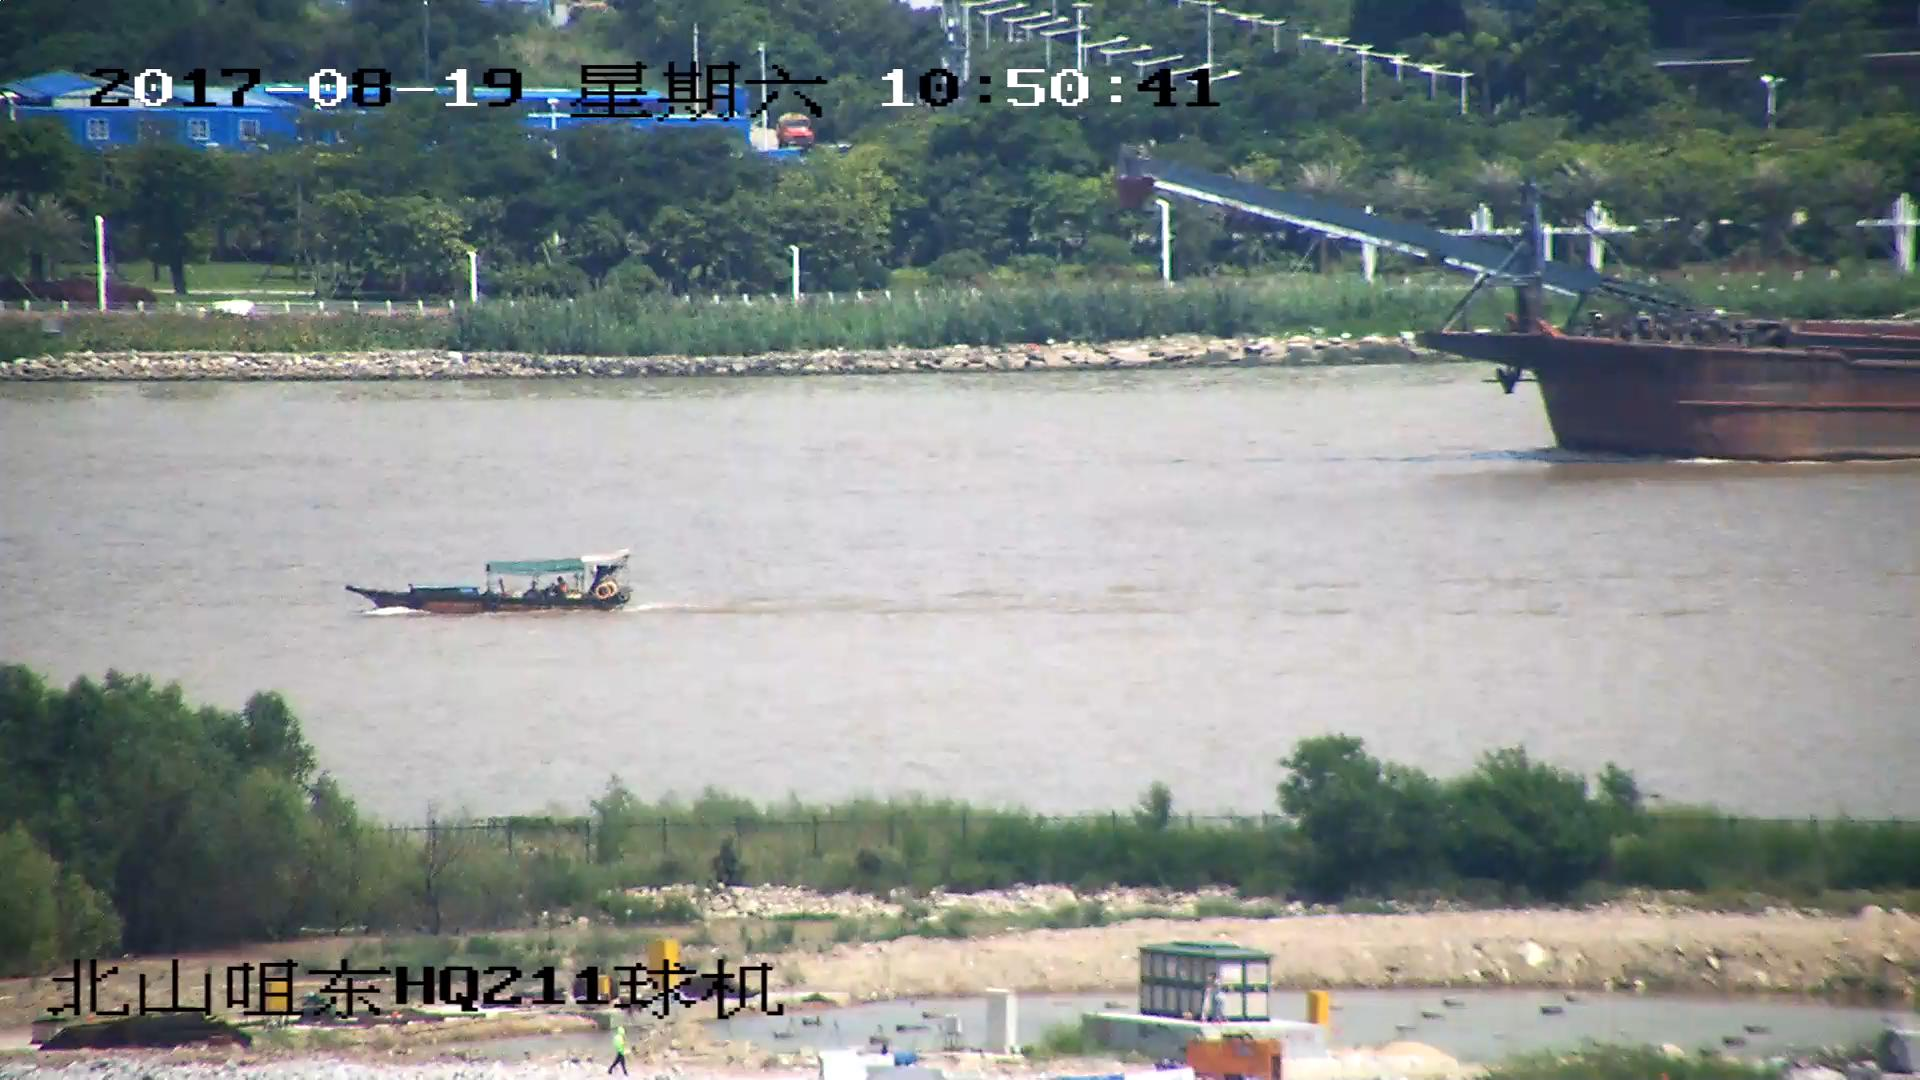bulk cargo carrier: (1128, 152, 1920, 462)
fishing boat: (347, 552, 635, 616)
